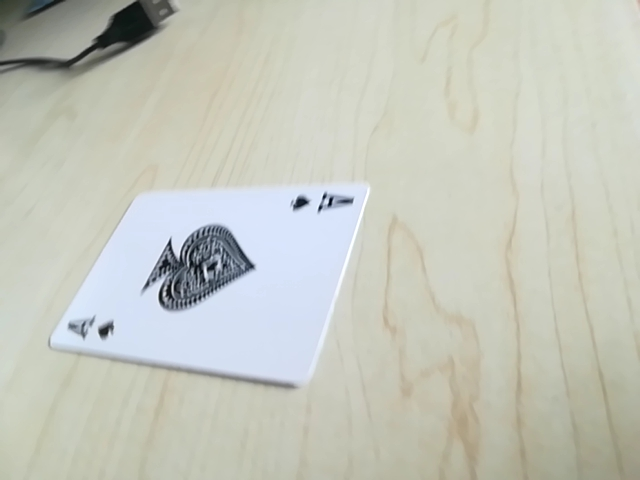ht a: (58, 310, 121, 352), (285, 186, 357, 220)
